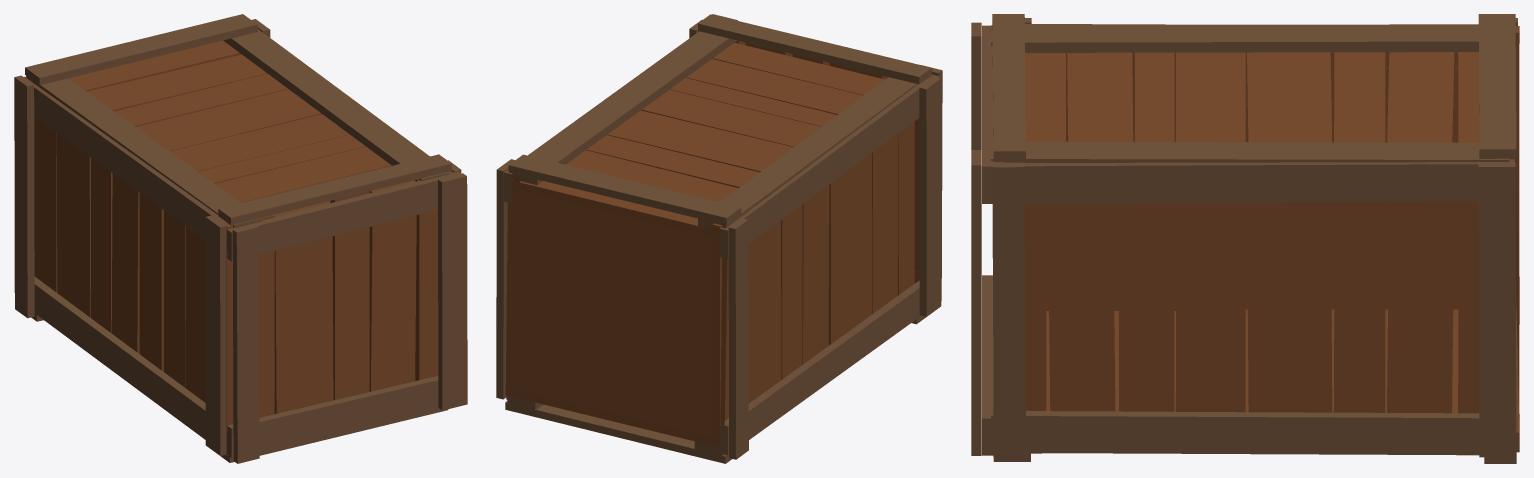
3 views of the same model, side by side, from view 1: azimuth 30°, elevation 25°; view 2: azimuth 150°, elevation 25°; view 3: azimuth 270°, elevation 25° (orthographic). The views are drawn at different scales.
Visible parts, largest first — view 1: box 1 long; view 2: box 1 long; view 3: box 1 long.
Part boxes in pixels (<box>): box 1 long: <box>14,14,467,463</box>; box 1 long: <box>496,14,942,463</box>; box 1 long: <box>971,14,1519,463</box>.
Size of the model in its own units: 191 by 186 by 296.
